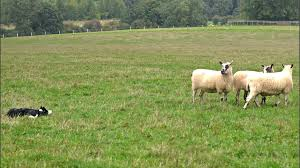sheep: (184, 60, 238, 105), (248, 65, 293, 109), (230, 62, 280, 99)
